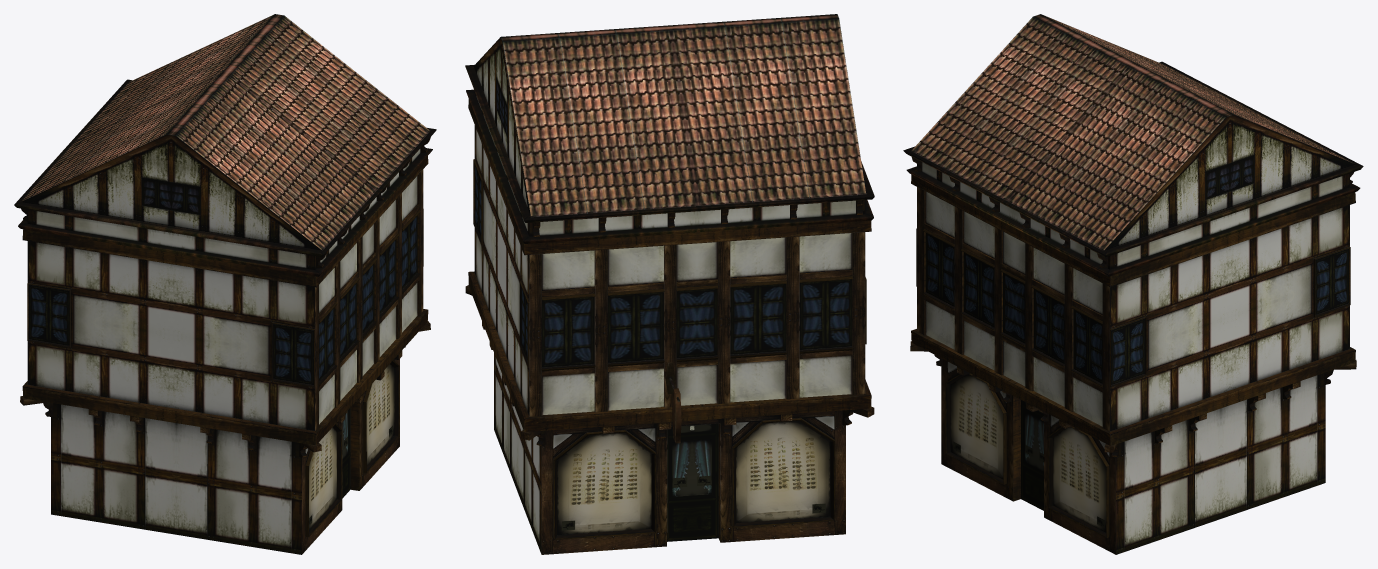
The picture shows the model from 3 angles, left to right: view 1: azimuth 30°, elevation 25°; view 2: azimuth 150°, elevation 25°; view 3: azimuth 270°, elevation 25°; orthographic projection. The views are drawn at different scales.
Visible parts, largest first — view 1: City_building_031; view 2: City_building_031; view 3: City_building_031.
Part boxes in pixels (x1,y1,x2,y2): City_building_031: [14, 14, 436, 554]; City_building_031: [465, 14, 874, 554]; City_building_031: [903, 14, 1363, 554].
Bounding box in the file's own units: 1189 × 1195 × 1169.
Materials: 1 (1 with a texture image).
